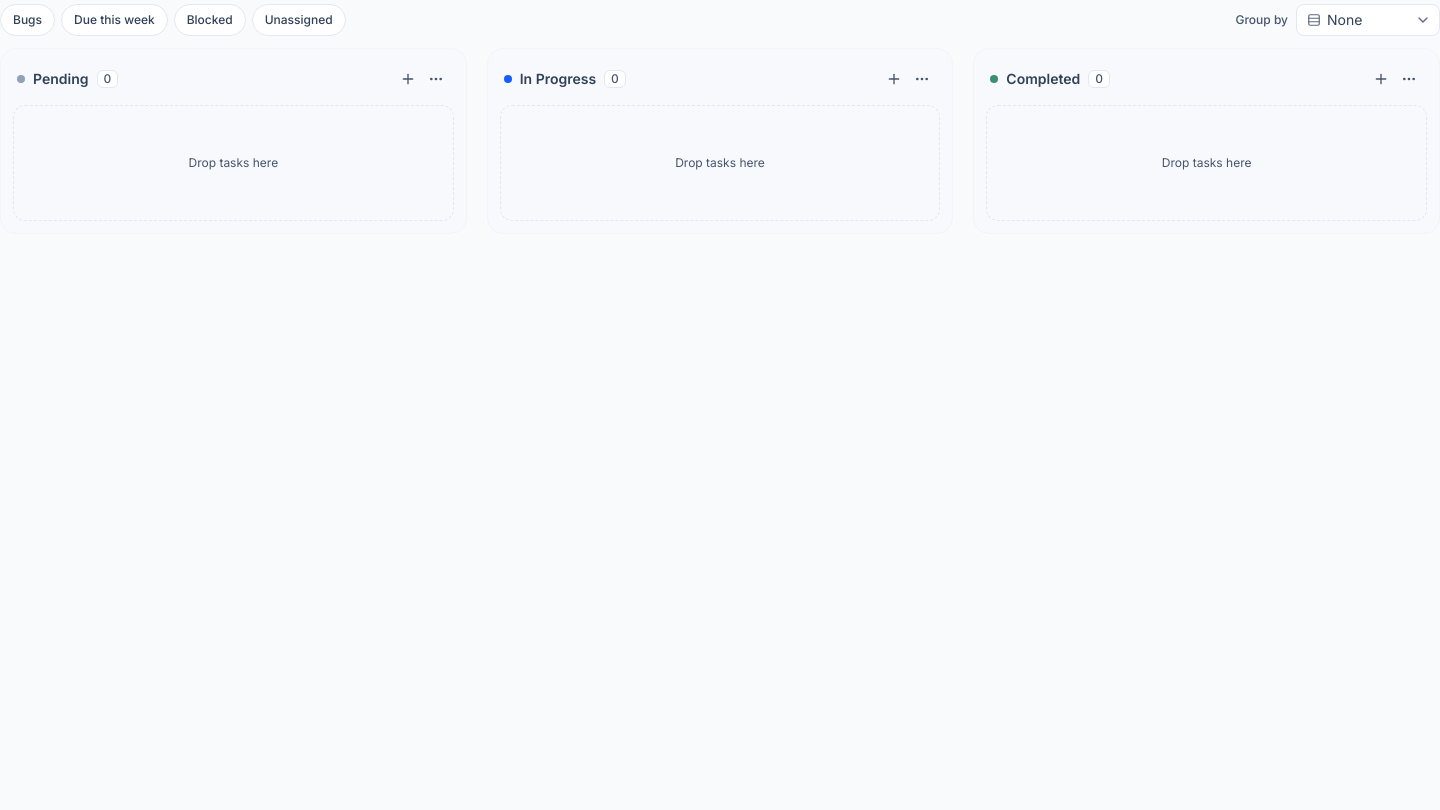
Test: BoardView WIP limits › shows the server error when saving fails
Click the button named "Options for Pending column" at (436, 79), box [422,65,450,93]
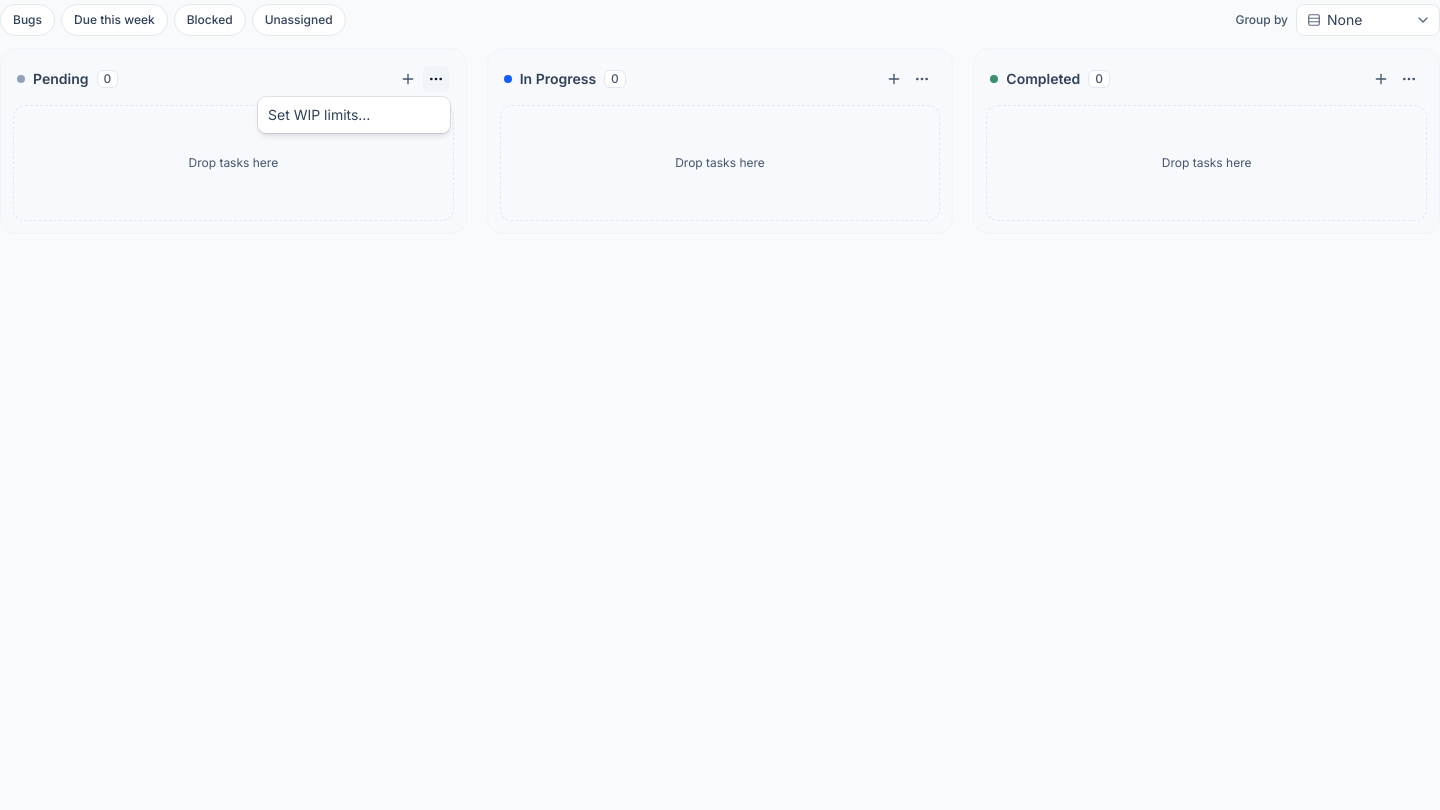
Click the menu item "Set WIP limits…" at (319, 114), box [268,106,370,123]
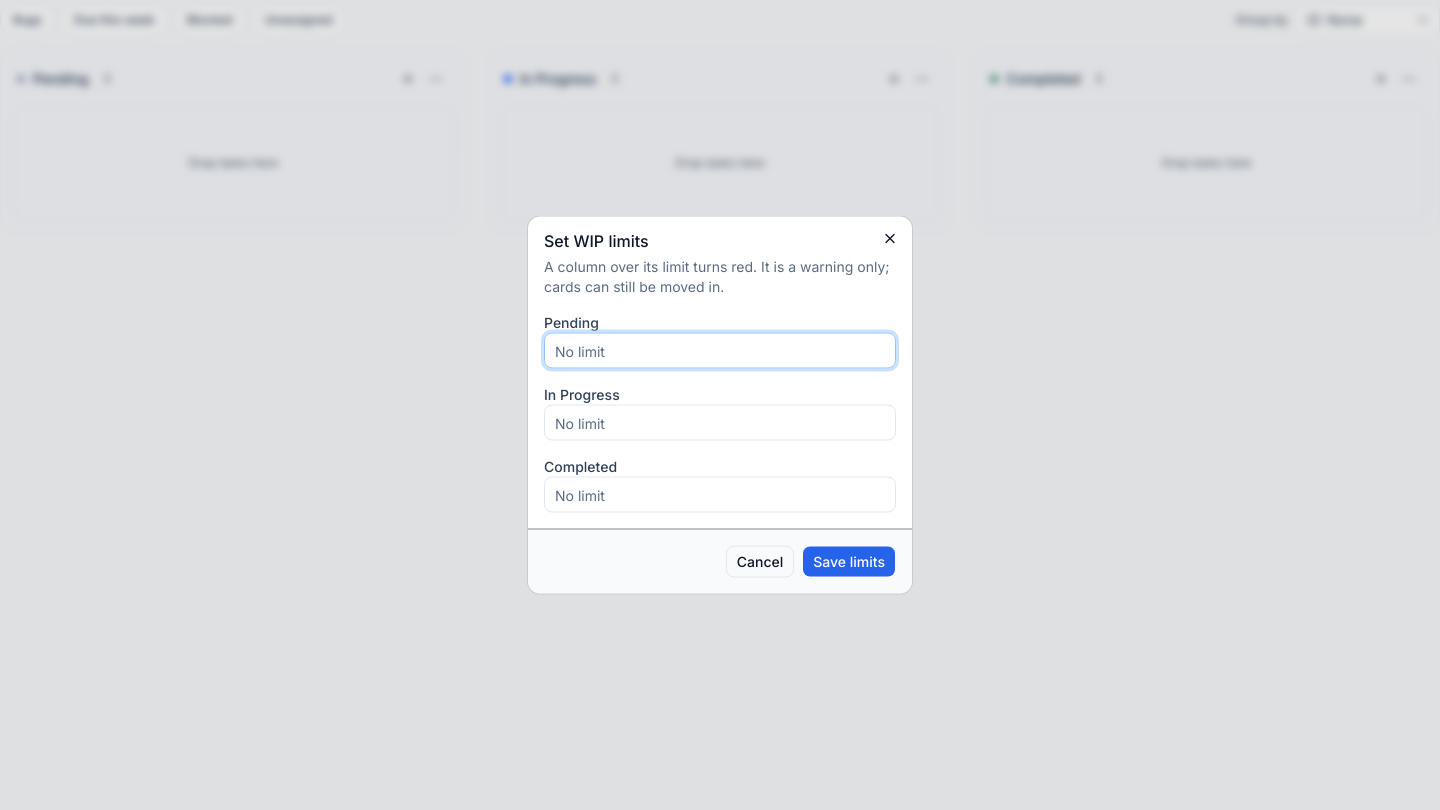
Click the button "Save limits" at (849, 562), box [802,546,896,578]
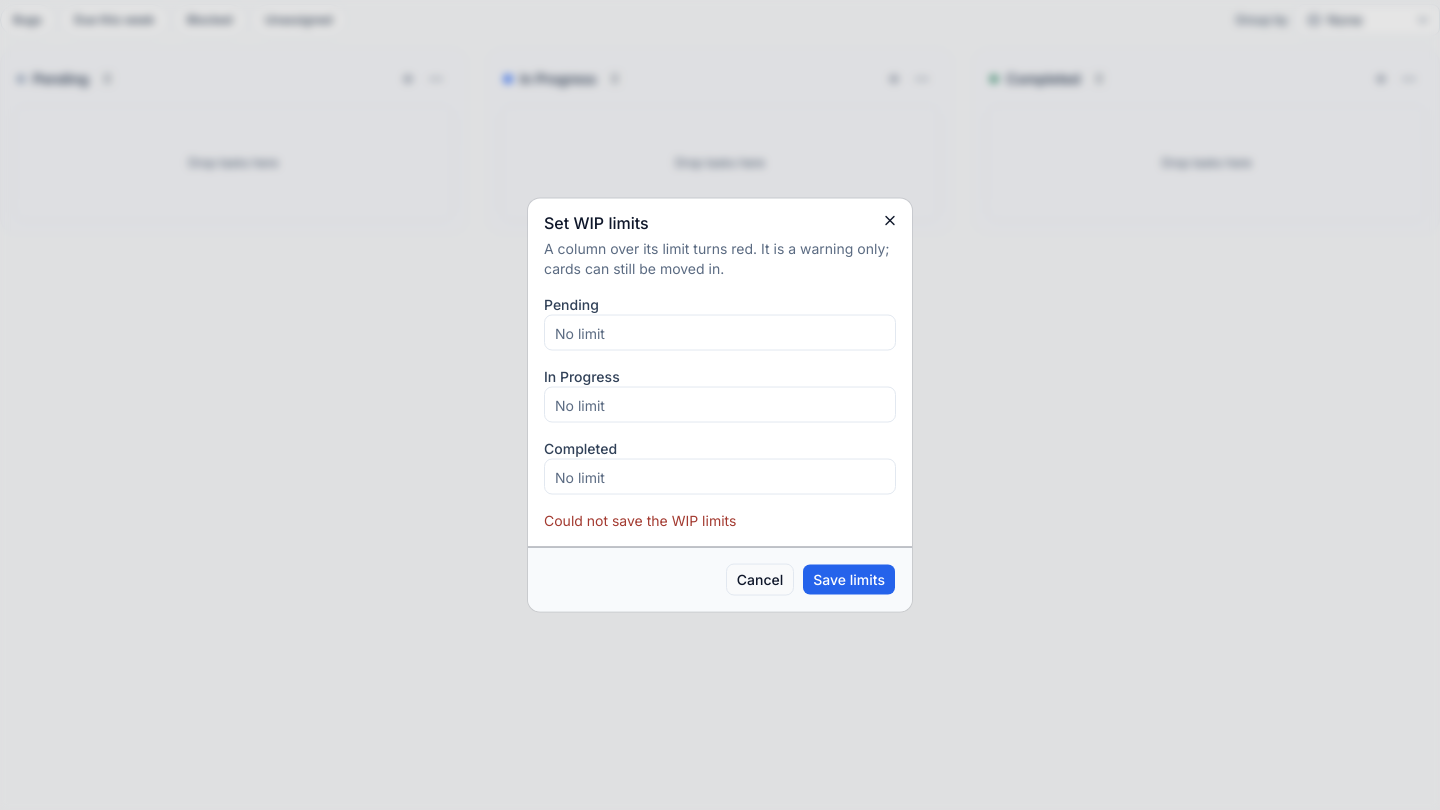
Now the message reads "Could not save the WIP limits", box [544,512,736,528]
